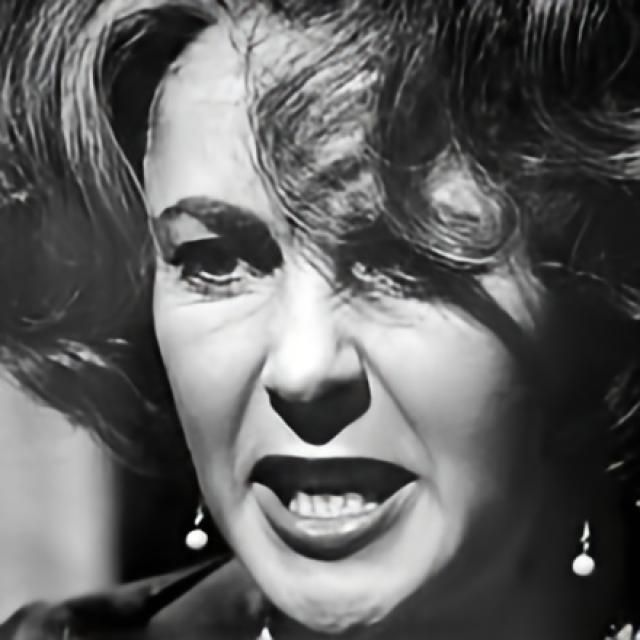disgust: (142, 0, 549, 637)
